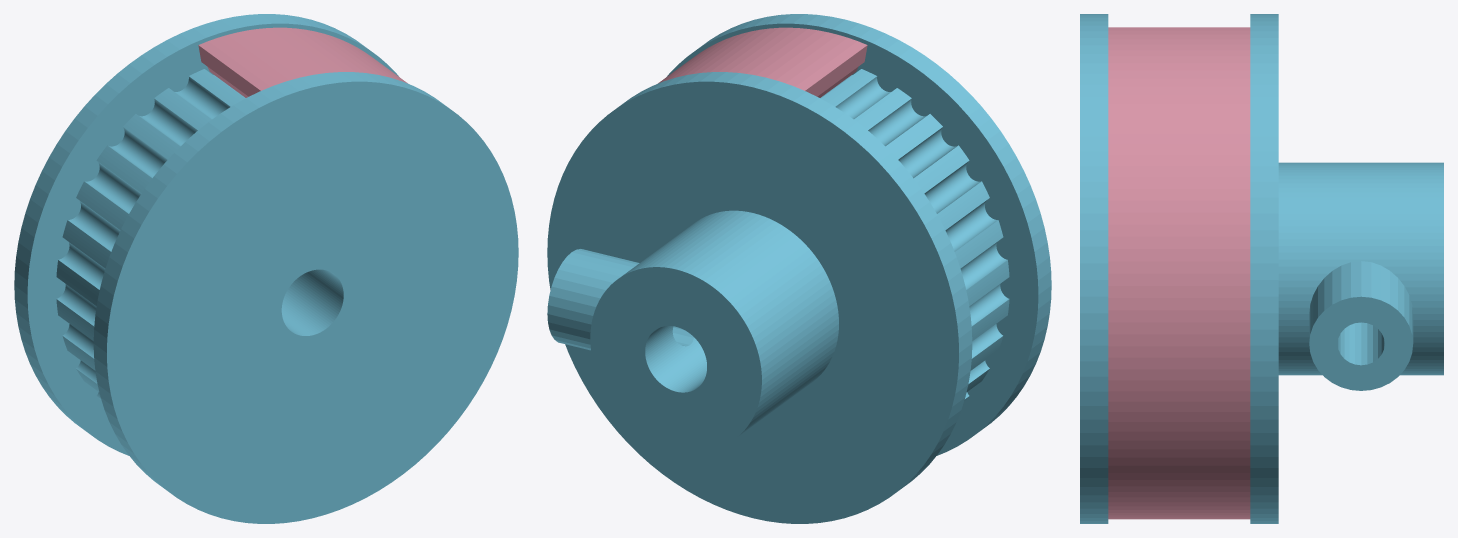
Rendered from timing_pulley_demo.glb.
3 views of the same model, side by side, from view 1: azimuth 30°, elevation 25°; view 2: azimuth 150°, elevation 25°; view 3: azimuth 270°, elevation 25° (orthographic). The views are drawn at different scales.
Visible parts, largest first — view 1: gt2_pulley, belt_segment; view 2: gt2_pulley, belt_segment; view 3: belt_segment, gt2_pulley.
Part boxes in pixels (x1,y1,x2,y2): gt2_pulley: (14, 14, 518, 523); belt_segment: (198, 27, 407, 97); gt2_pulley: (547, 14, 1051, 523); belt_segment: (658, 27, 867, 97); belt_segment: (1108, 27, 1250, 519); gt2_pulley: (1080, 14, 1443, 523).
Bounding box in the file's own units: 21.59 × 21.59 × 15.4.
